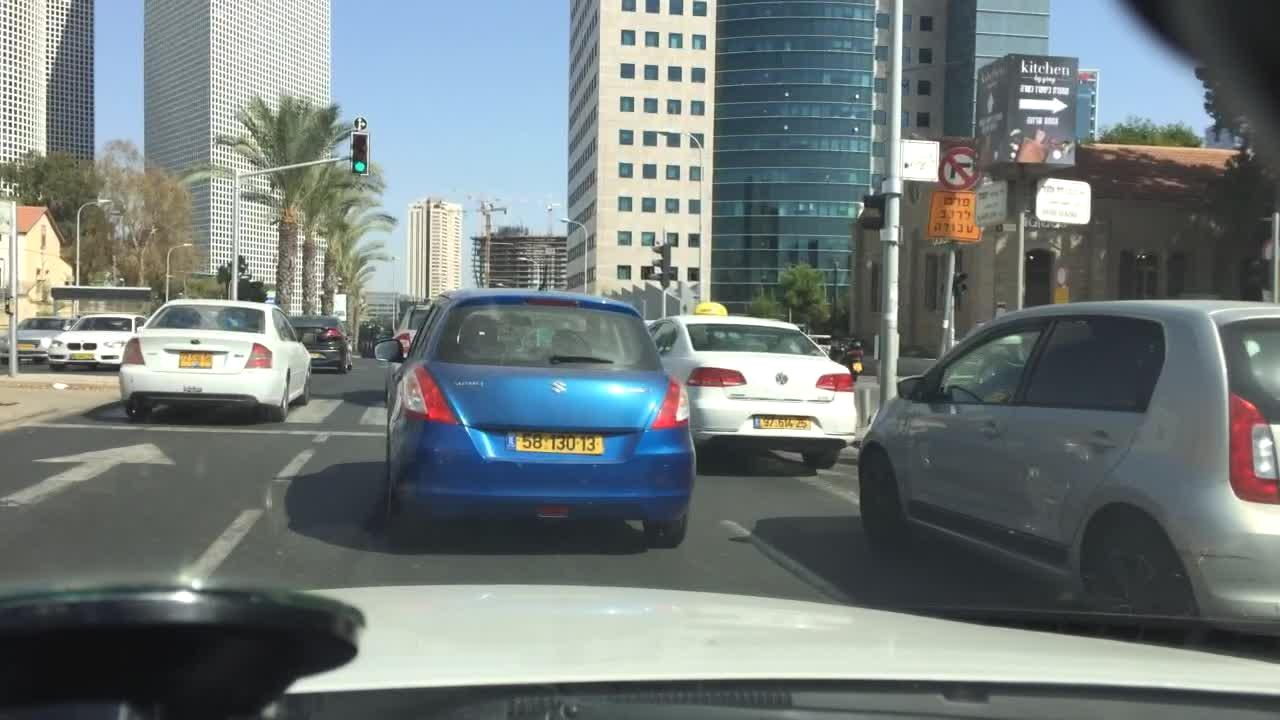suzuki: (549, 377, 569, 399)
